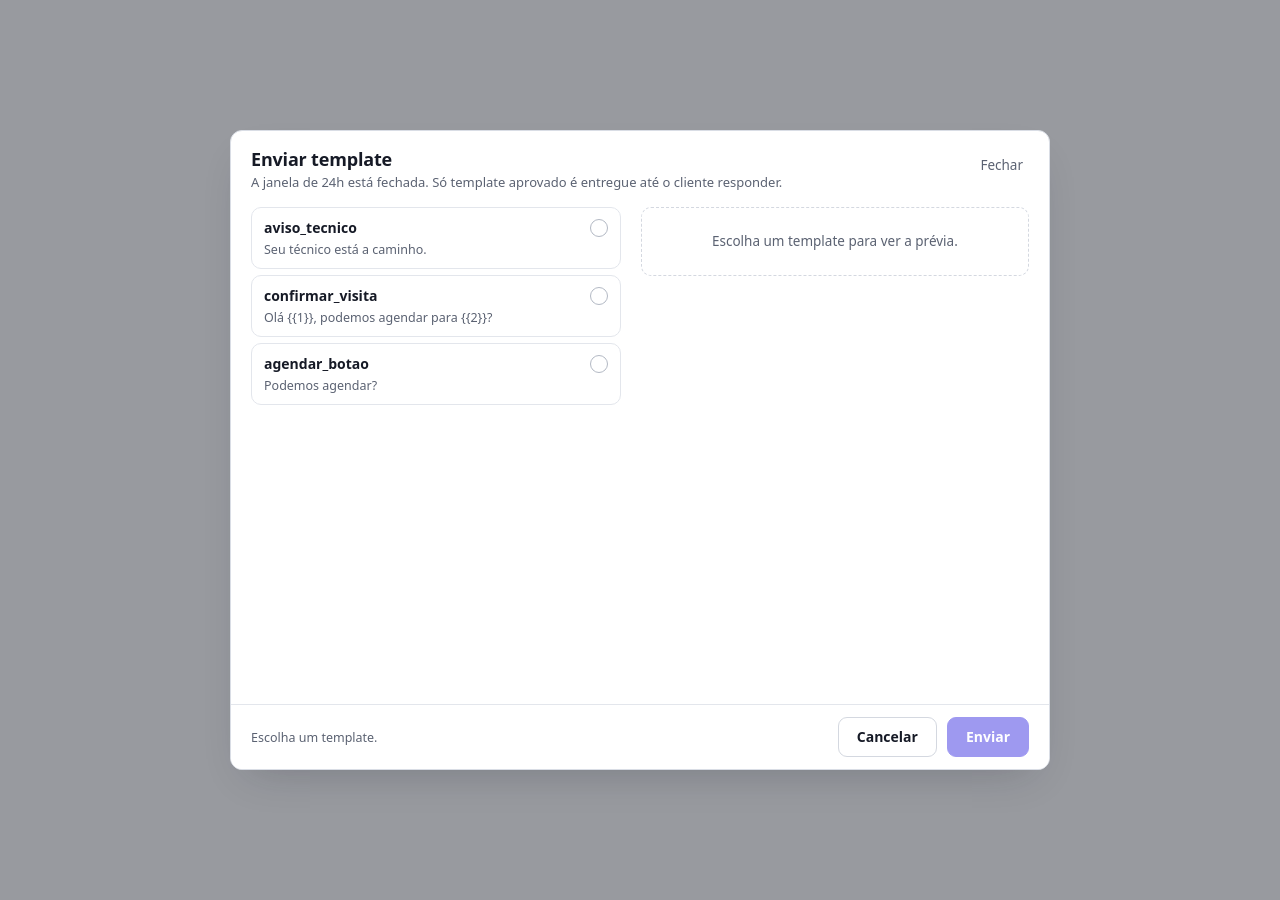
Test: SendTemplateModal › a prévia mostra os botões que o cliente vai receber
The image size is (1280, 900).
What coordinates should you click on to do the following:
click the radio button labelled "agendar_botao Podemos agendar?"
I would click on:
 (316, 364)
Its box is [251,343,621,405].
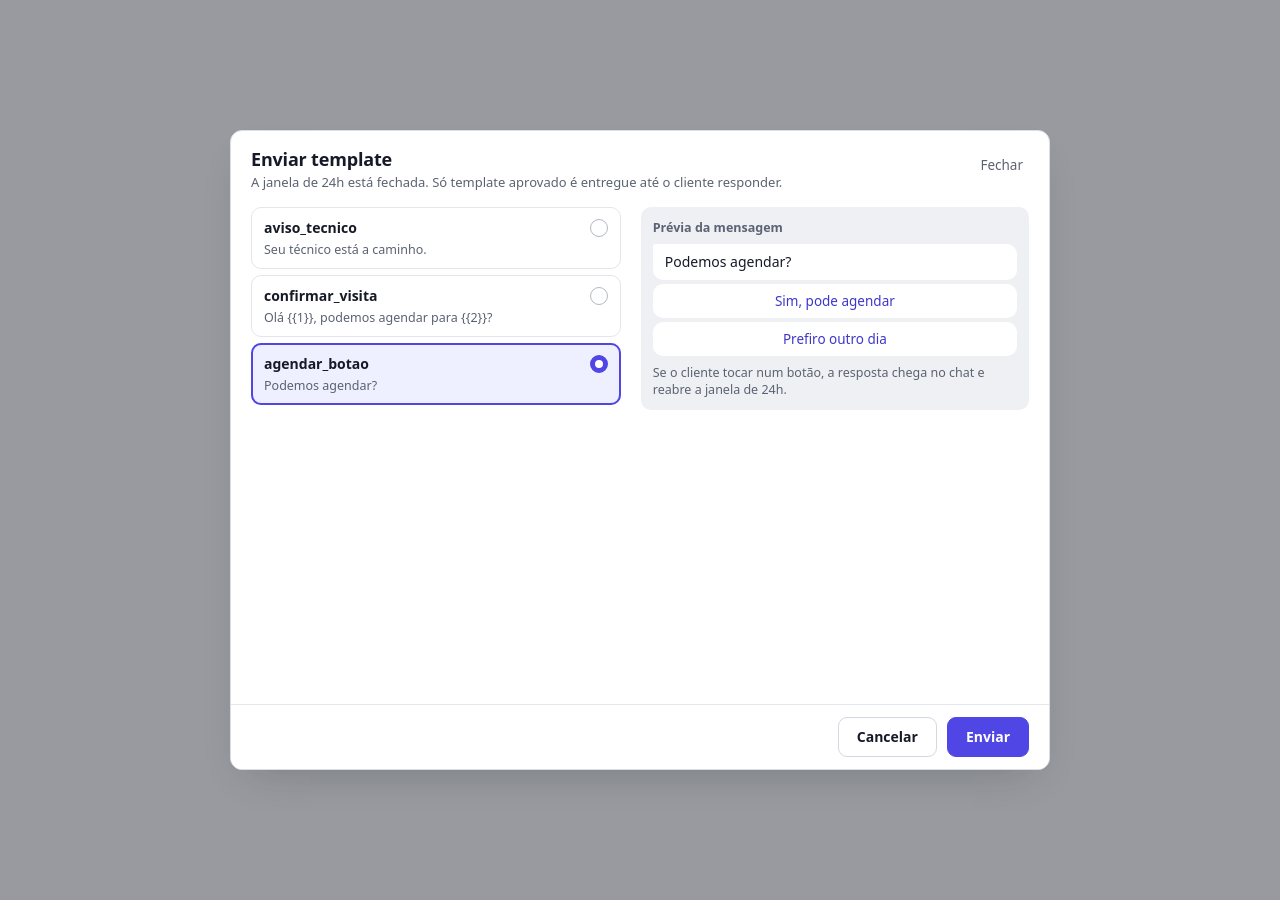
Now the text "Sim, pode agendar" is shown, box [653,284,1017,318]
Now the text "Prefiro outro dia" is shown, box [653,322,1017,356]
